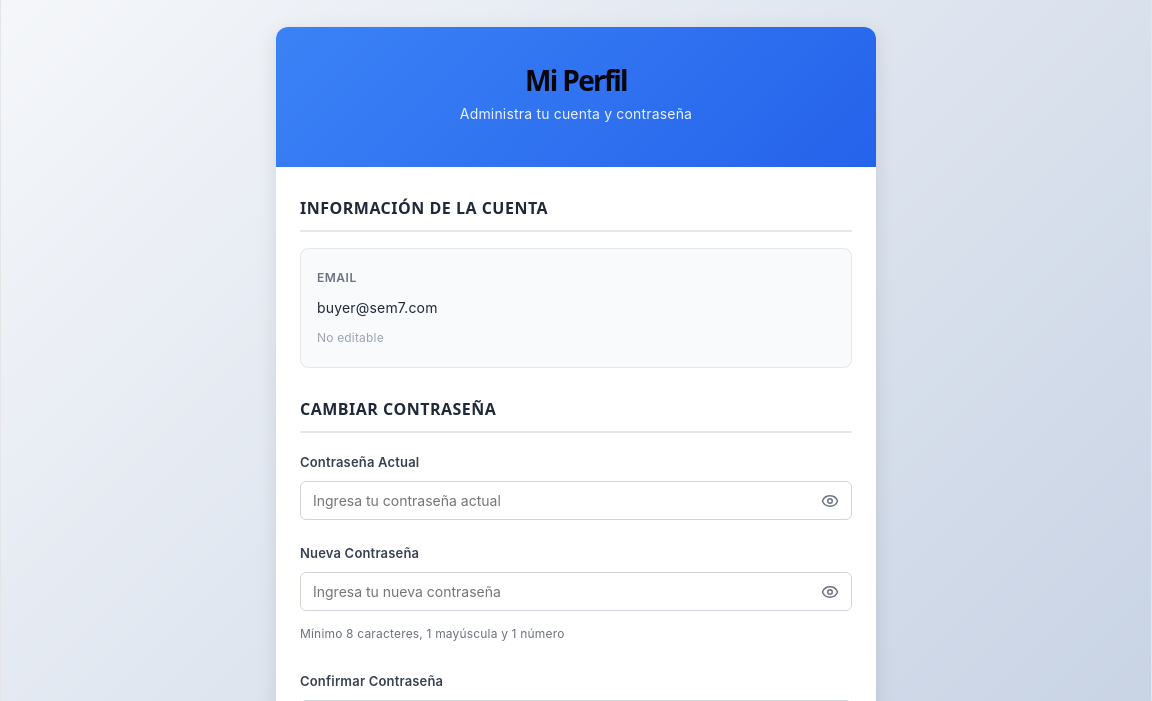
Test: ProfilePage › shows error when new password is empty on submit
In the password field labelled "Contraseña Actual": (555, 501) [301, 482, 809, 519], type "Pass1234"
(page scrolled)
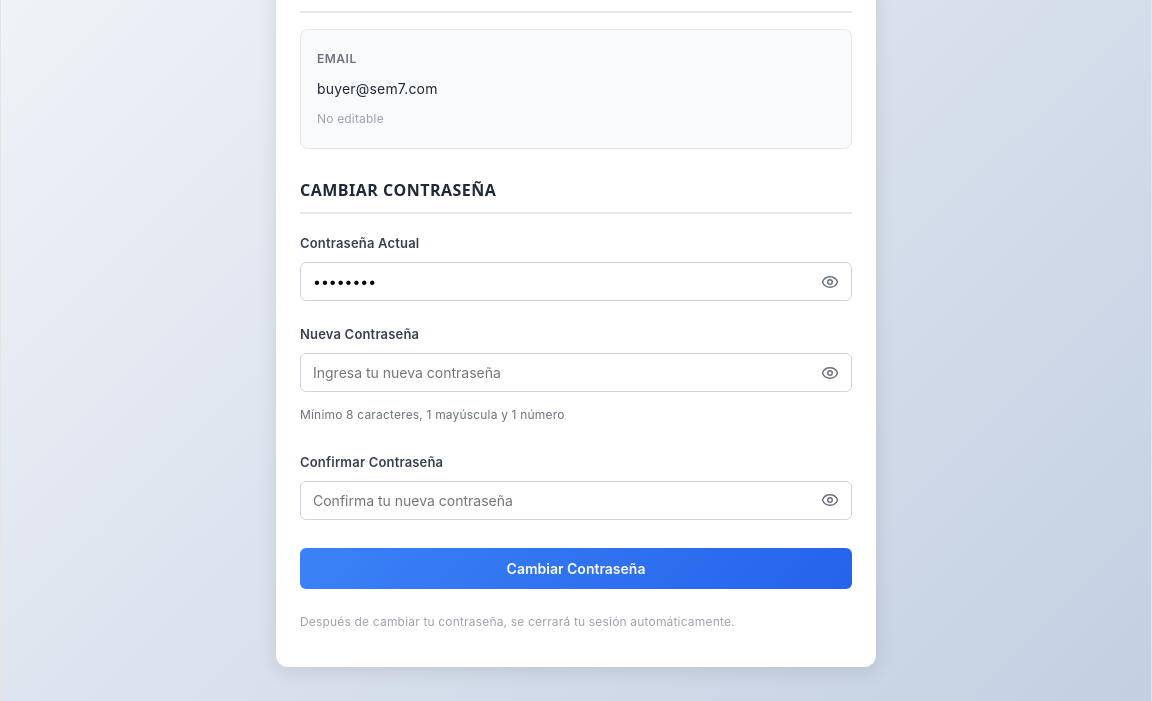
Click the button "Cambiar Contraseña": (576, 568) [300, 548, 852, 589]
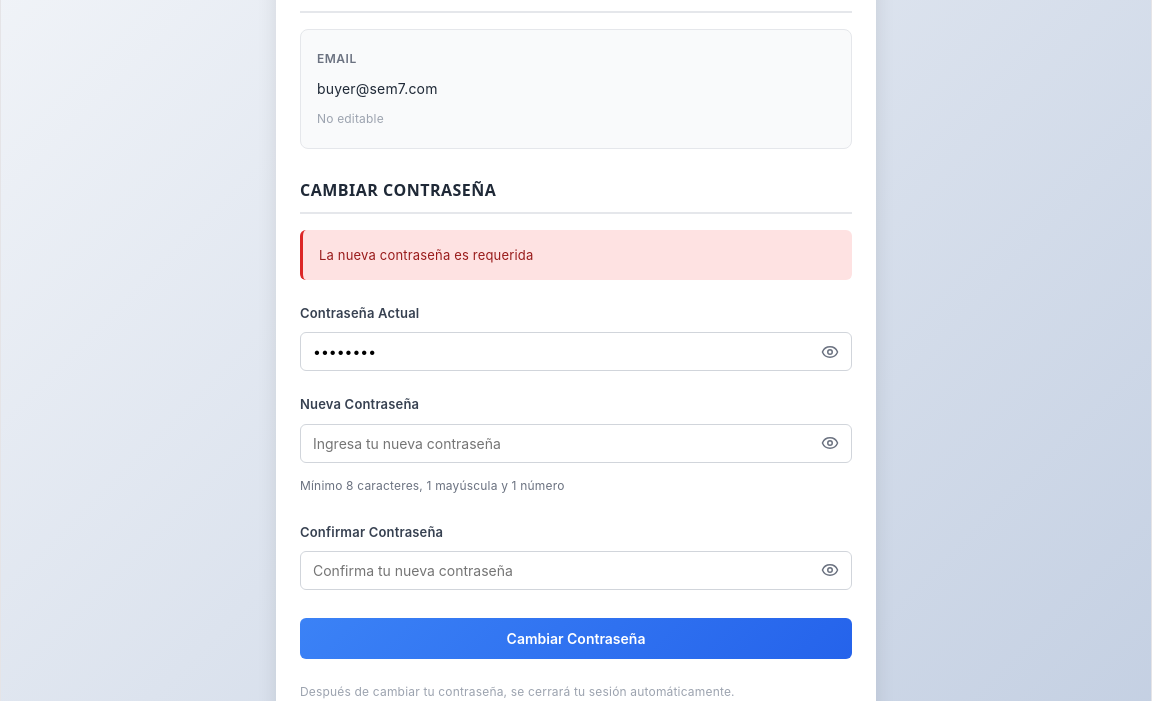
Now the text "La nueva contraseña es requerida" is shown, box [300, 230, 852, 280]
